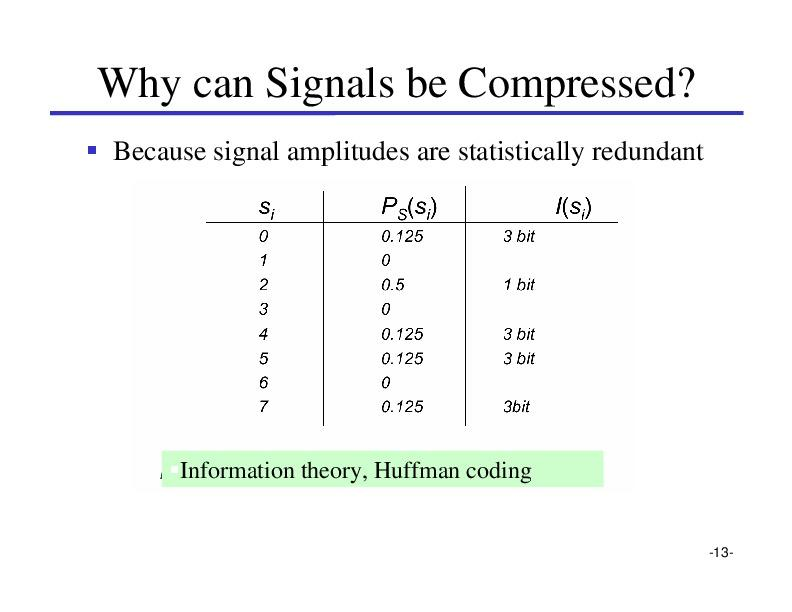paragraph: (108, 136, 724, 517)
title: (93, 56, 697, 109)
